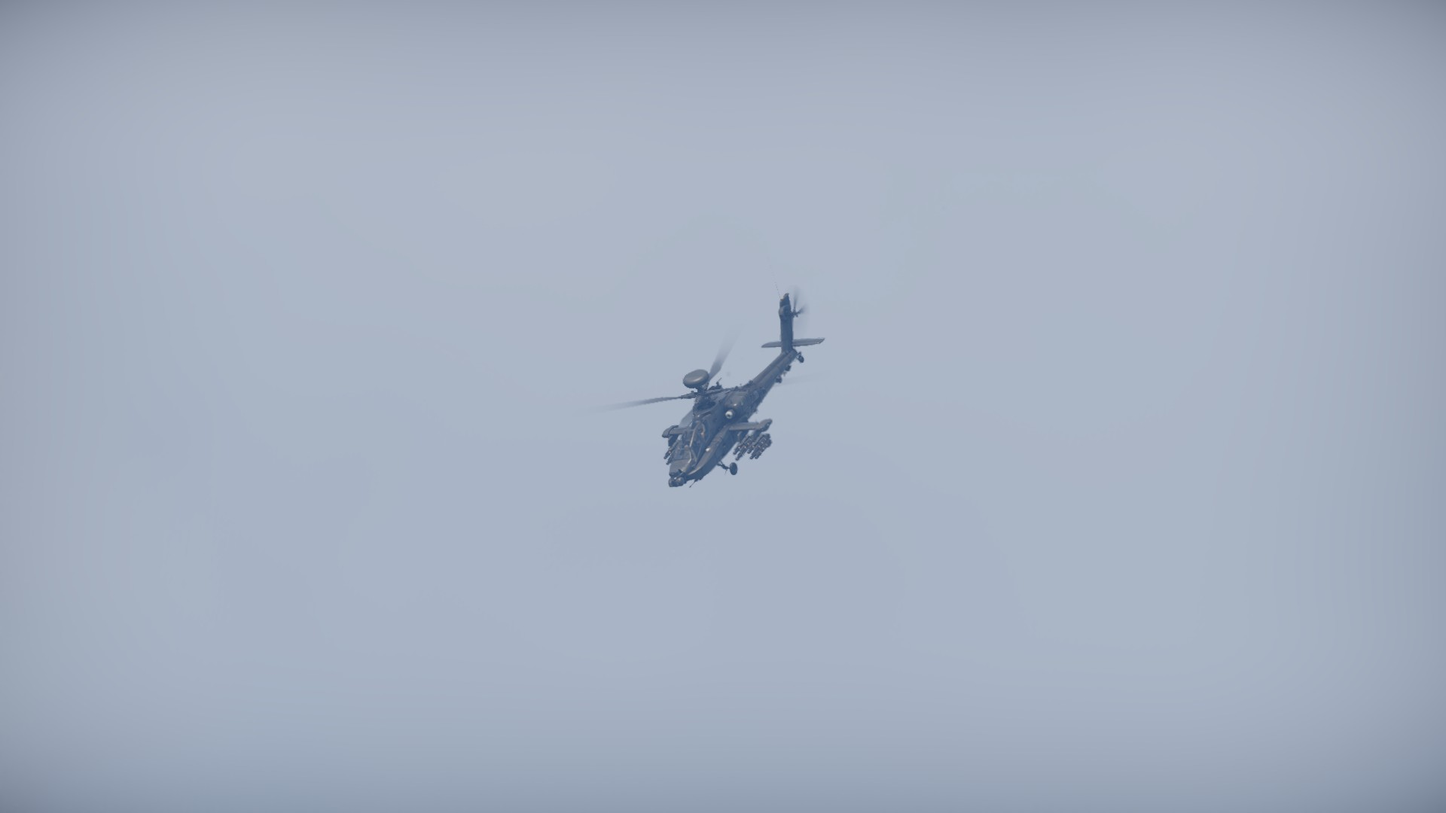ah64: (585, 286, 825, 489)
